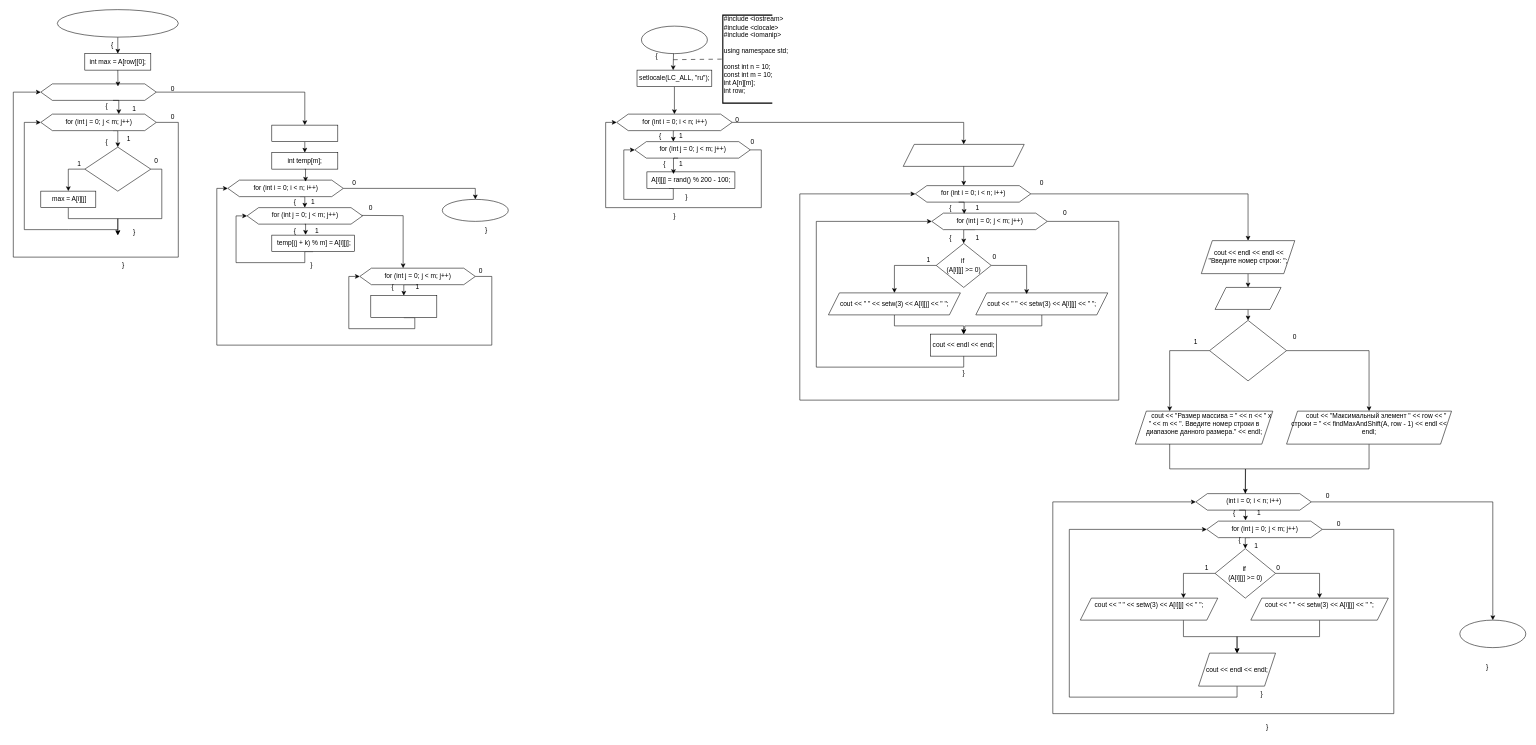
The diagram is 1536 pixels wide and 745 high, and some of its shapes have lost their labels. Each missing label, with the box of its shape:
A[i][j] = temp[j];: (370, 295, 437, 318)
cin >> row;: (1215, 287, 1281, 309)
cout << "Исходный массив: ";: (903, 144, 1024, 166)
for (int i = row; i <= row; i++): (40, 83, 156, 100)
if (max < A[i][j]): (84, 147, 151, 191)
if (row < 1 || row > n): (1209, 320, 1287, 381)
int findMaxAndShift(int A[n][m], int row): (57, 9, 178, 37)
int k = max % m;: (271, 125, 338, 142)
int main(): (641, 26, 707, 54)
return 0;: (1459, 620, 1526, 648)
return max;: (442, 199, 508, 221)
